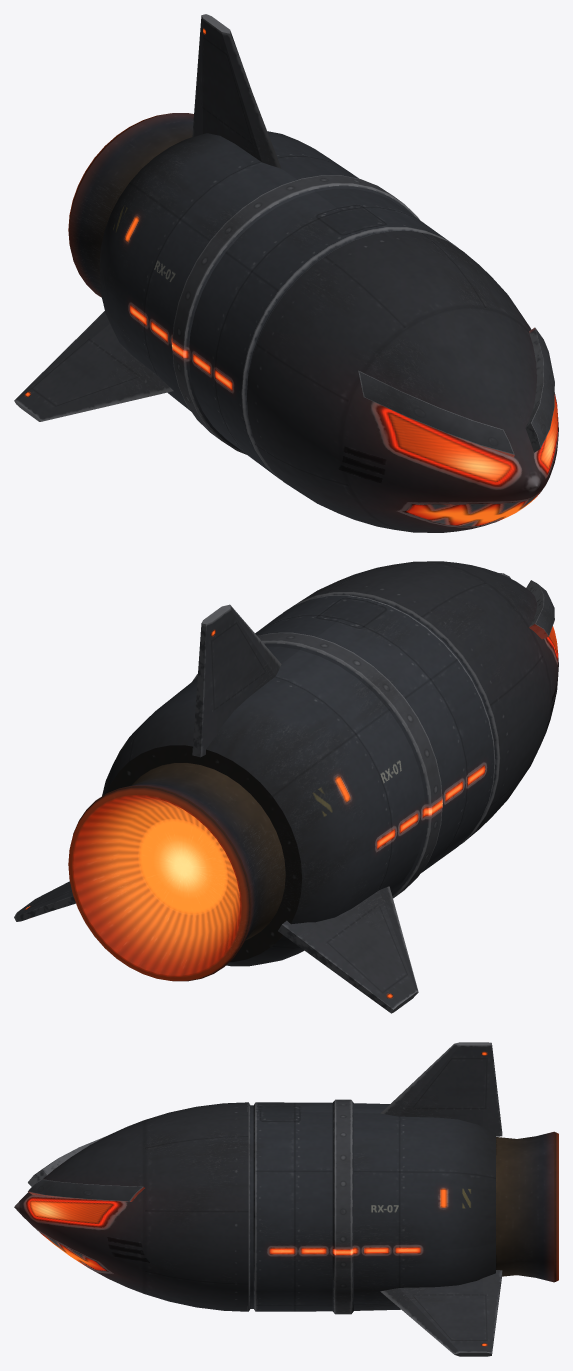
File: RushEnemy.fbx
3 views of the same model, one above another, from view 1: azimuth 30°, elevation 25°; view 2: azimuth 150°, elevation 25°; view 3: azimuth 270°, elevation 25° (orthographic). The views are drawn at different scales.
Parts seen in each view (by area): view 1: RushEnemy; view 2: RushEnemy; view 3: RushEnemy.
Part boxes in pixels (x1,y1,x2,y2): RushEnemy: [14, 14, 558, 532]; RushEnemy: [14, 561, 558, 1013]; RushEnemy: [14, 1042, 558, 1356].
Bounding box in the file's own units: 15066 × 13720 × 26000.
Materials: 1 (1 with a texture image).
